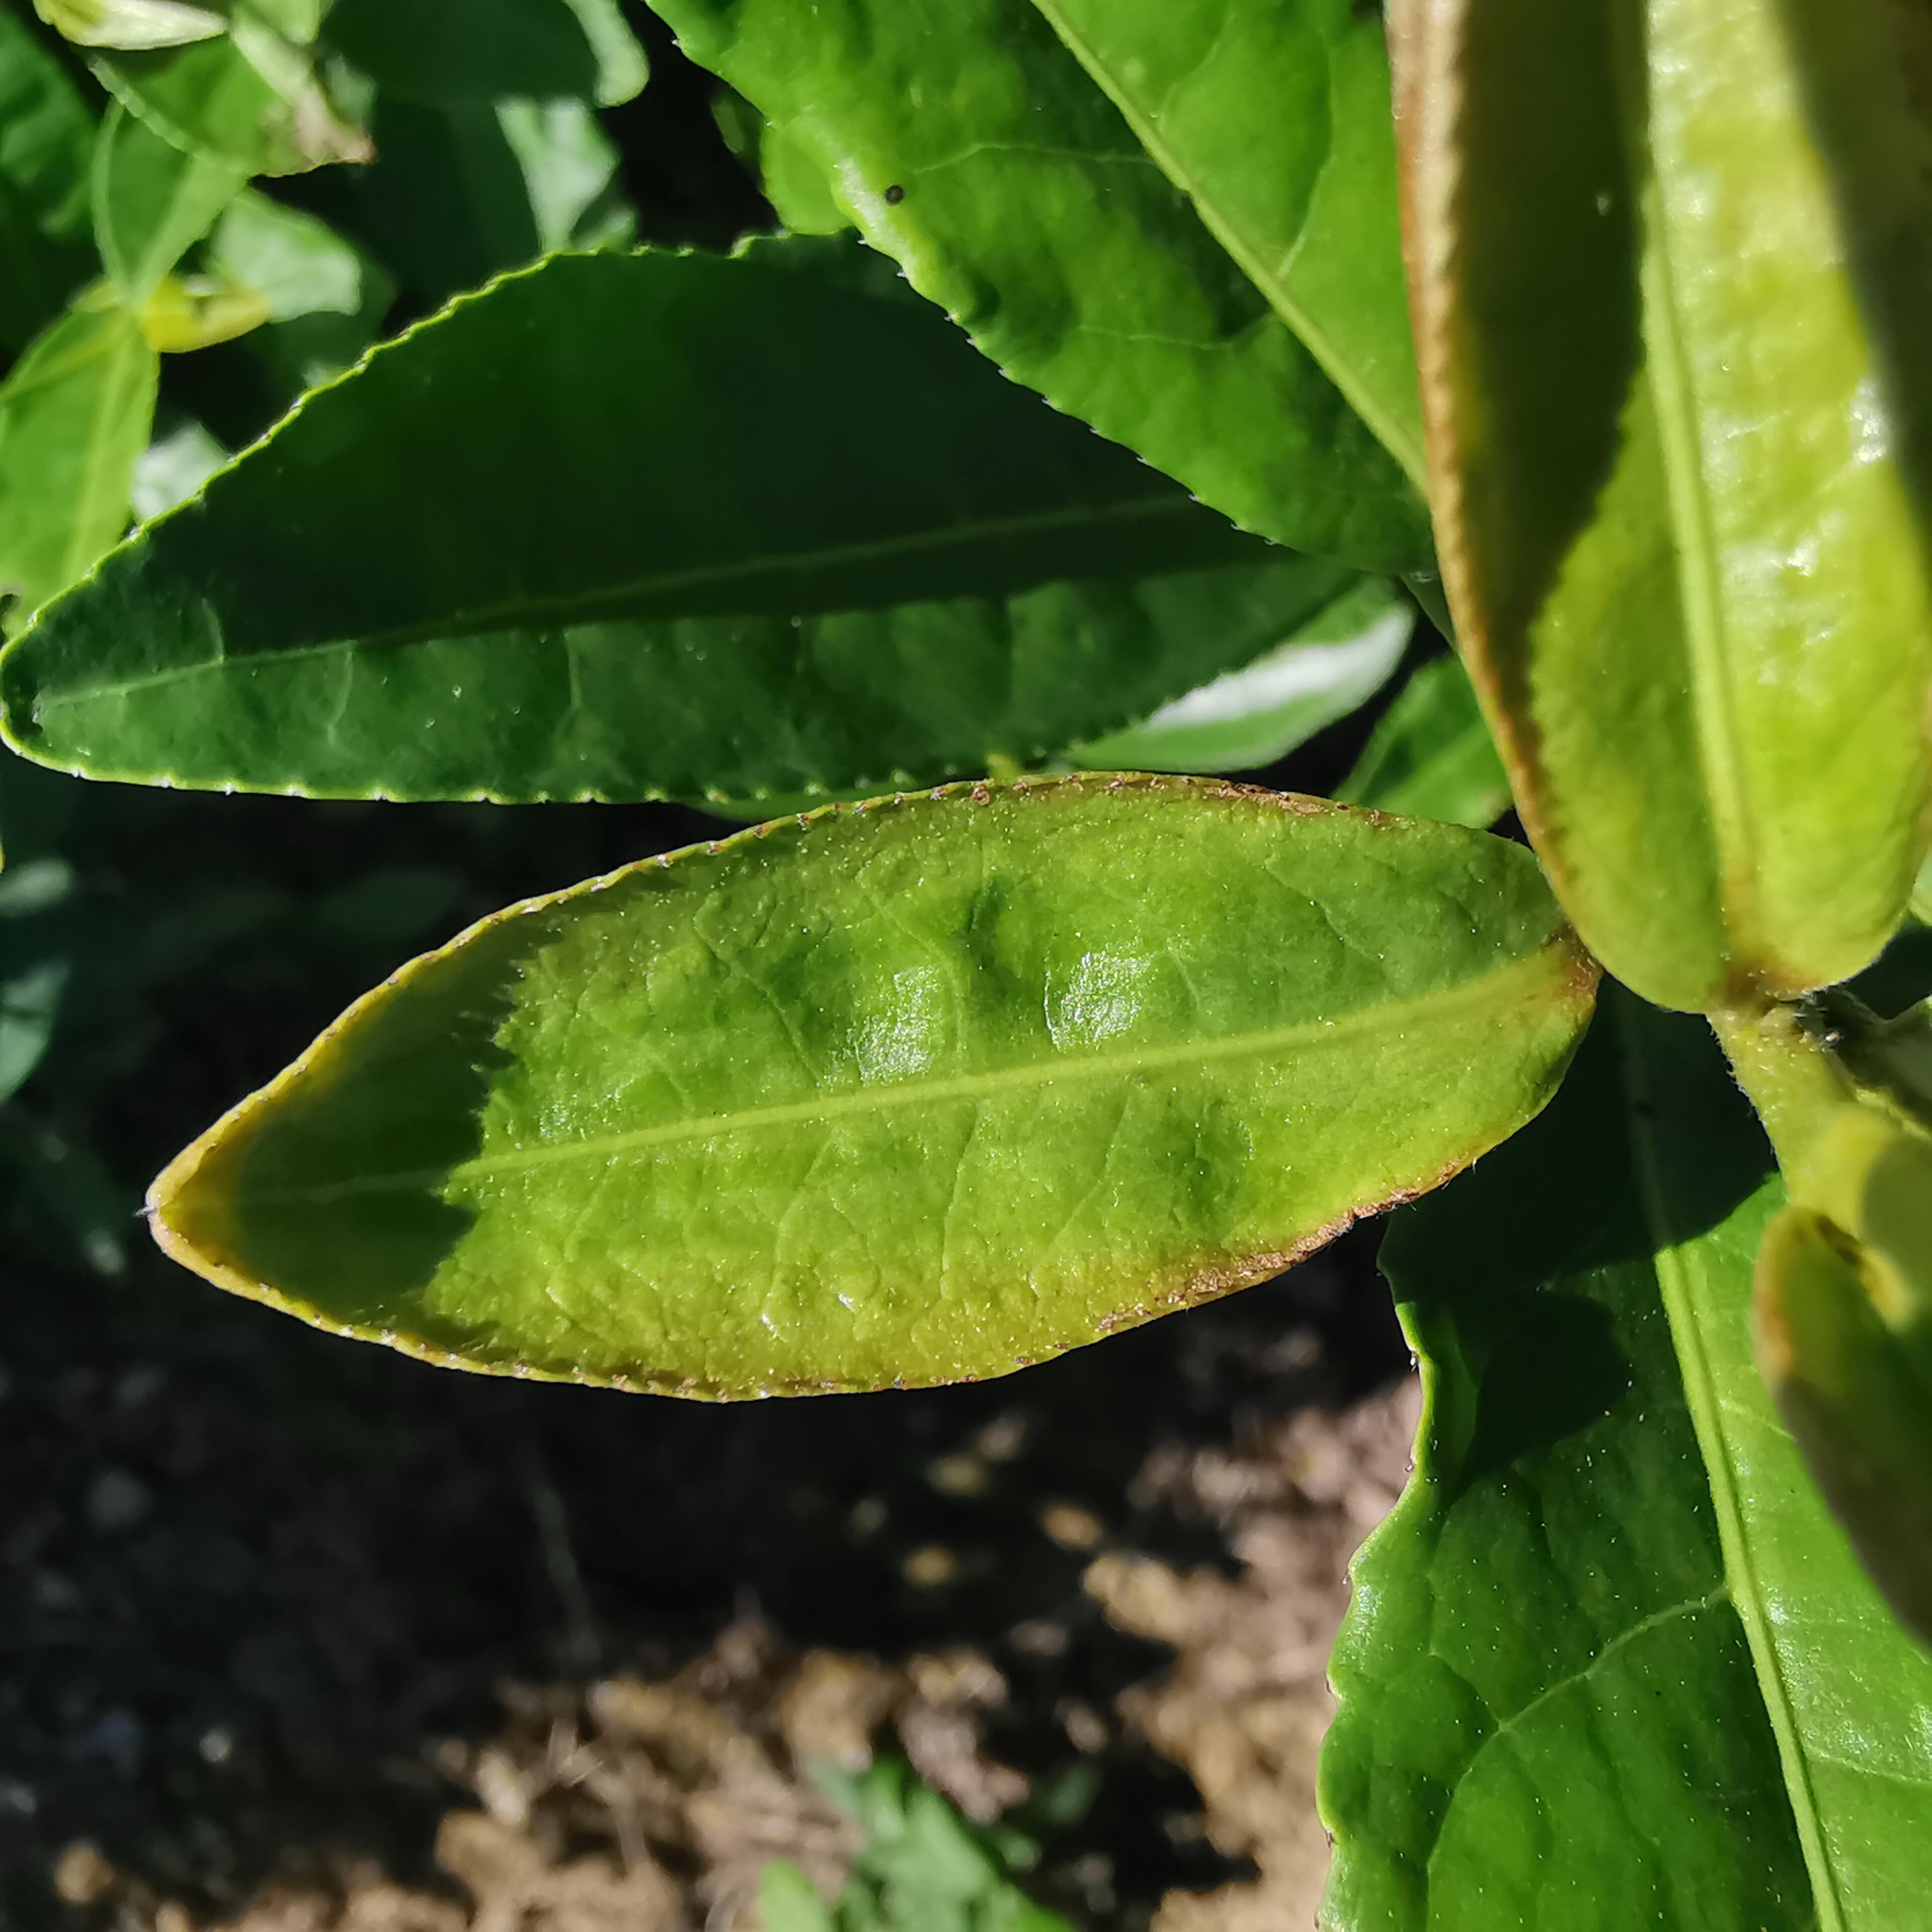healthy: (4, 228, 1380, 814)
tanju_low: (152, 770, 1601, 1405), (1378, 0, 1930, 1019)
